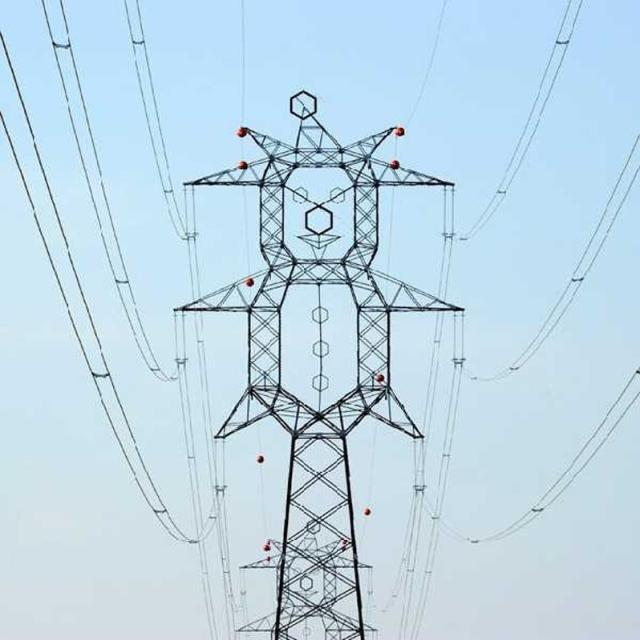non-critical vegetation: (182, 91, 458, 588)
